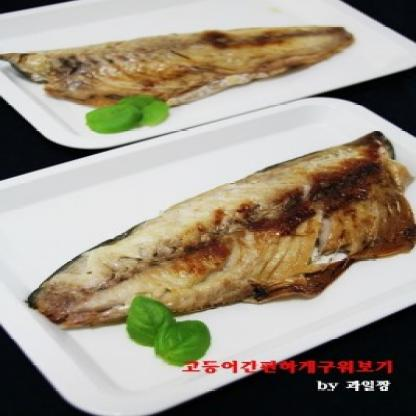Peixe: (18, 132, 416, 342), (0, 24, 386, 119)
